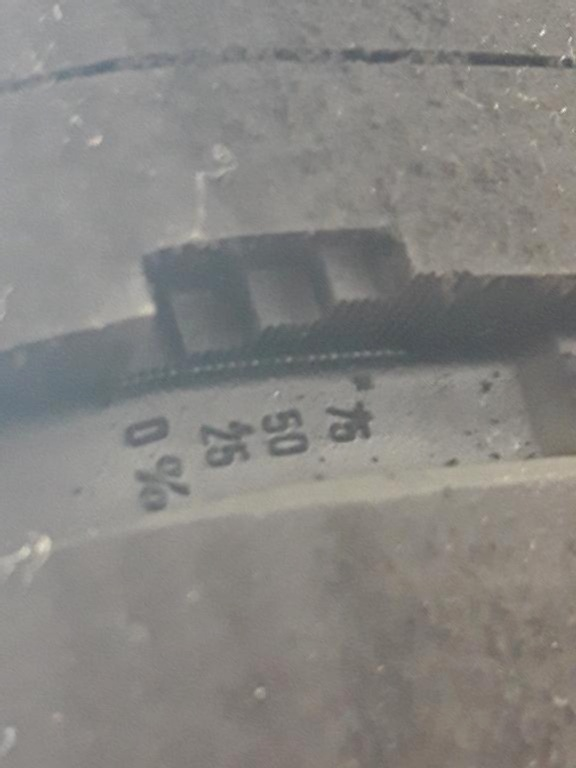temoin:95: (104, 206, 480, 413)
